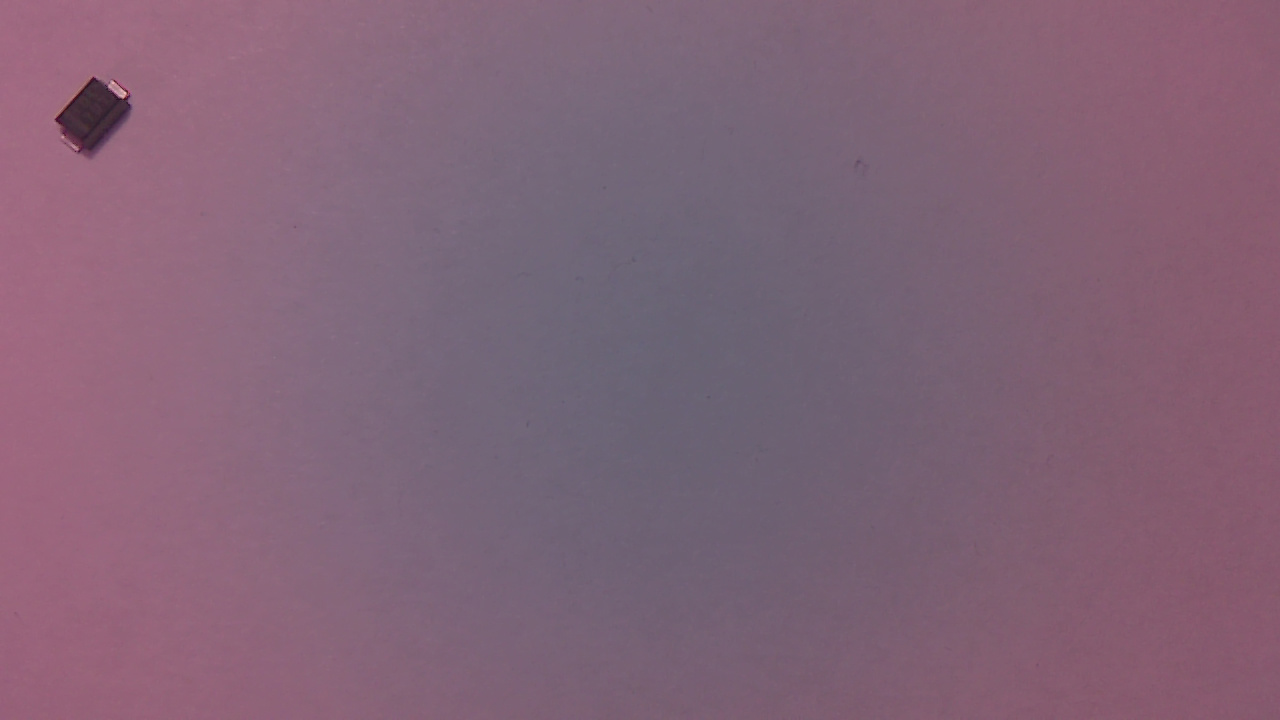Diode: (60, 79, 139, 166)
